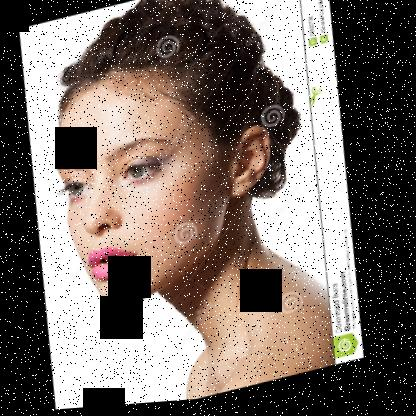Female: (36, 33, 302, 323)
